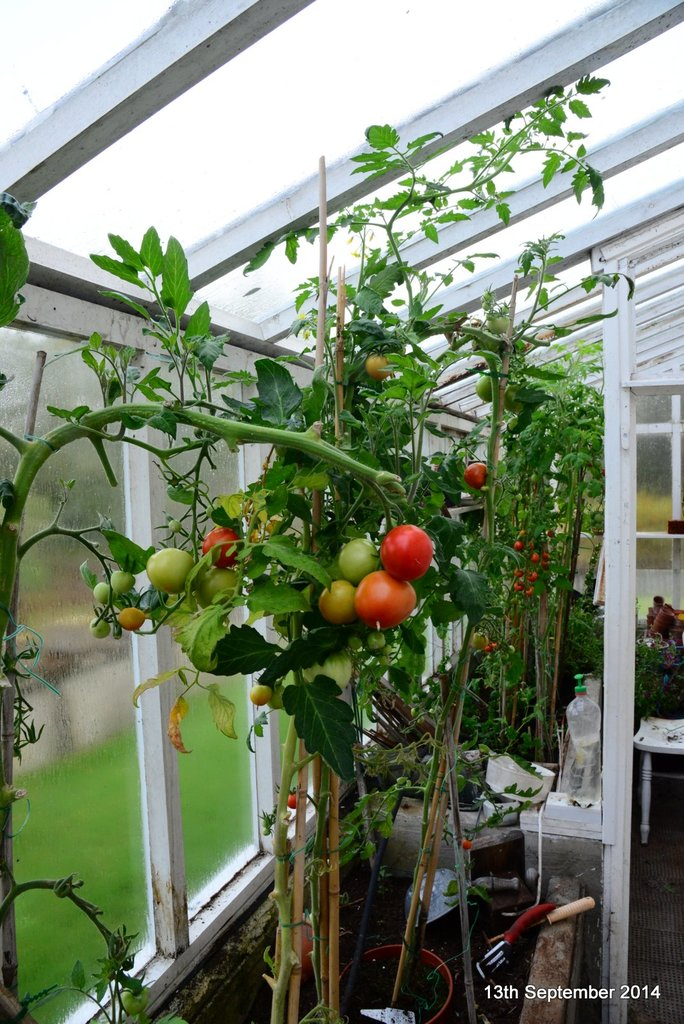Tomato: (348, 560, 416, 625), (377, 523, 434, 581), (148, 540, 194, 595), (315, 579, 363, 621), (204, 518, 241, 568), (332, 540, 374, 584)
